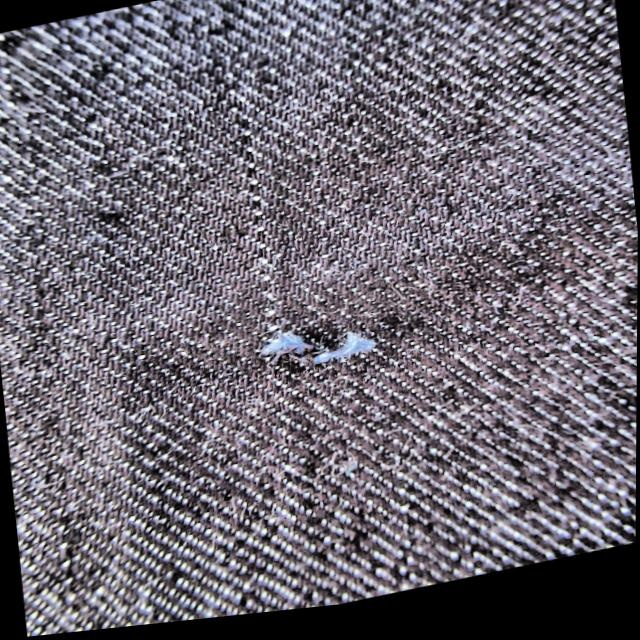Hole: (208, 275, 432, 417)
